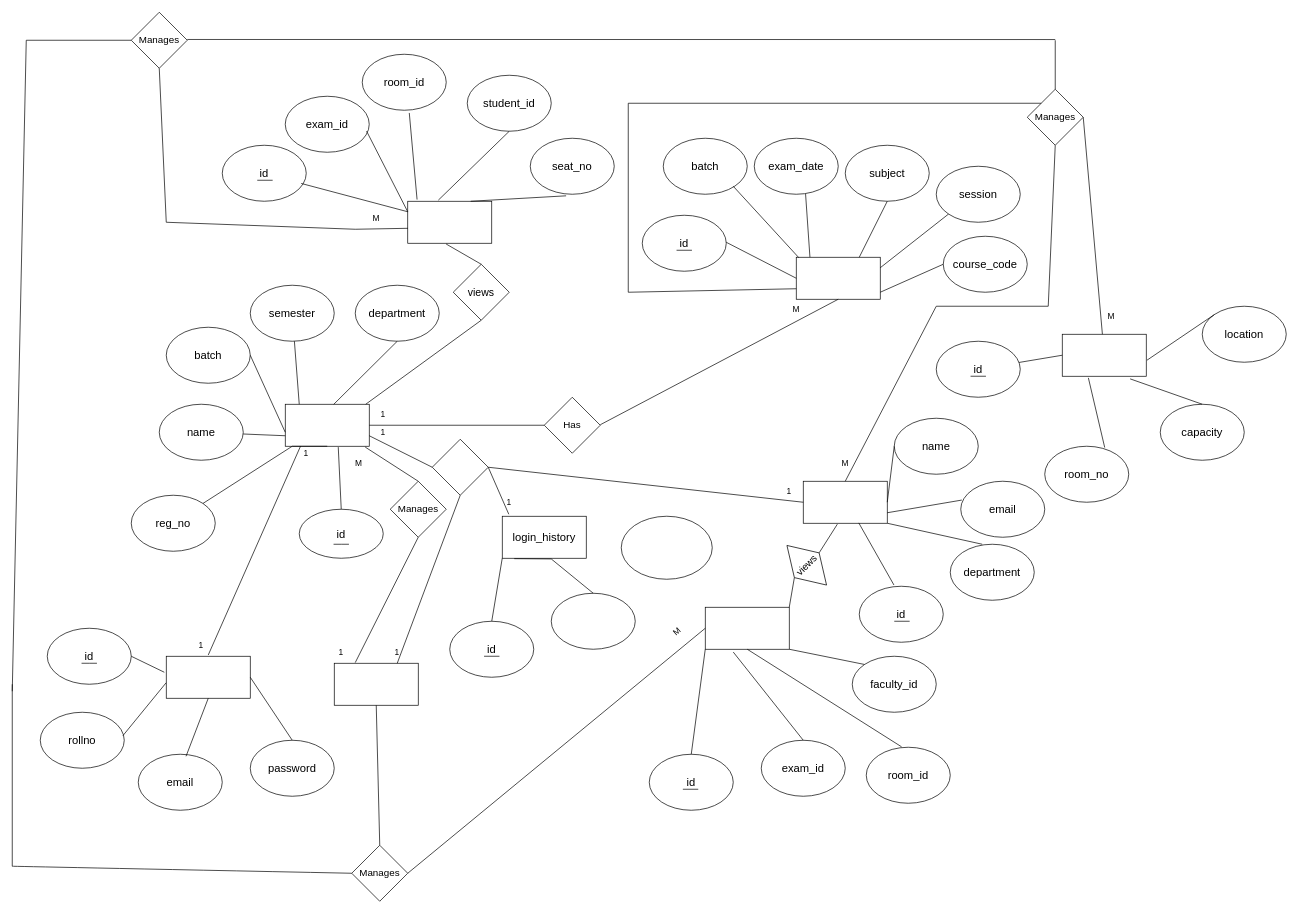
Some shapes in this 1299 by 914 pixel diagram are drawn without their labels. The centre of each missing label's shape, as x and y in pixels:
"Admin" goes at point (376, 684).
"exams" goes at point (838, 278).
"faculty" goes at point (845, 502).
"invigilation" goes at point (747, 628).
"login_timestamp" goes at point (666, 547).
"Logins" goes at point (460, 467).
"reg" goes at point (208, 677).
"rooms" goes at point (1104, 355).
"Seating" goes at point (449, 222).
"students" goes at point (327, 425).
"user_id" goes at point (593, 621).
